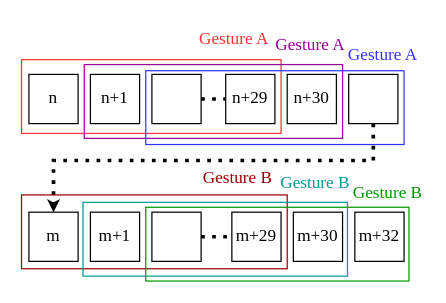
This 446x303 diagram has some shape labels left out. The box of each missing label's shape, as (x1, y1, x2, y2) in pixels:
m+2: (151, 211, 201, 261)
n+2: (151, 73, 201, 124)
n+32: (347, 73, 398, 124)
